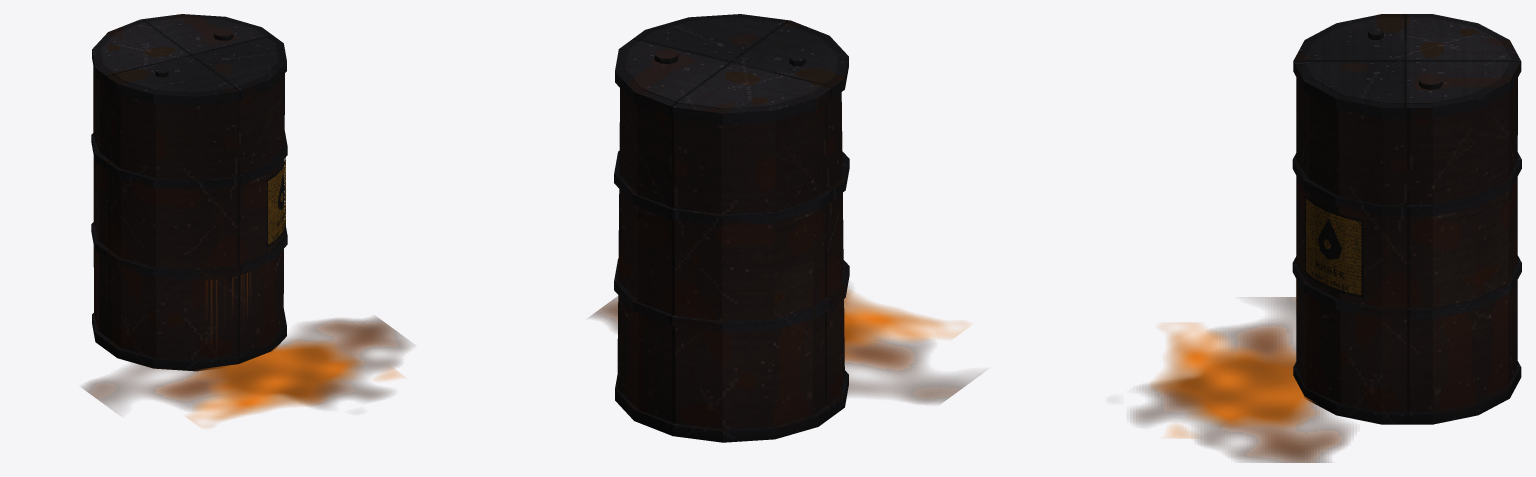
File: drum_amber.glb
3 renders of one model, left to right at view 1: azimuth 30°, elevation 25°; view 2: azimuth 150°, elevation 25°; view 3: azimuth 270°, elevation 25°, orthographic. The views are drawn at different scales.
Visible parts, largest first — view 1: body, decals; view 2: body, decals; view 3: body, decals.
Part boxes in pixels (x1,y1,x2,y2): body: [91, 14, 287, 371]; decals: [82, 157, 411, 426]; body: [614, 14, 849, 442]; decals: [589, 286, 981, 404]; body: [1292, 14, 1521, 424]; decals: [1130, 195, 1363, 462].
Size of what is drawn, in the model's own units: 1 by 0.906 by 1.09.
7 materials, 7 textured.
